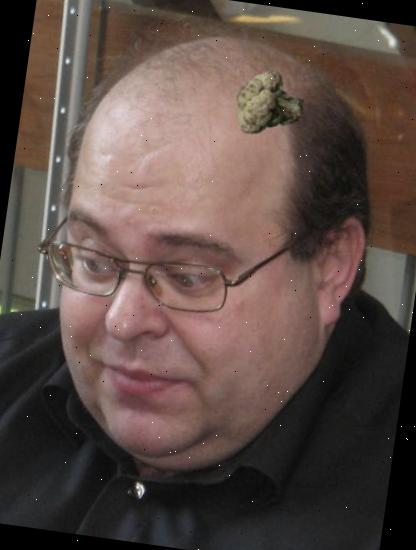Cauliflower: (231, 64, 310, 142)
